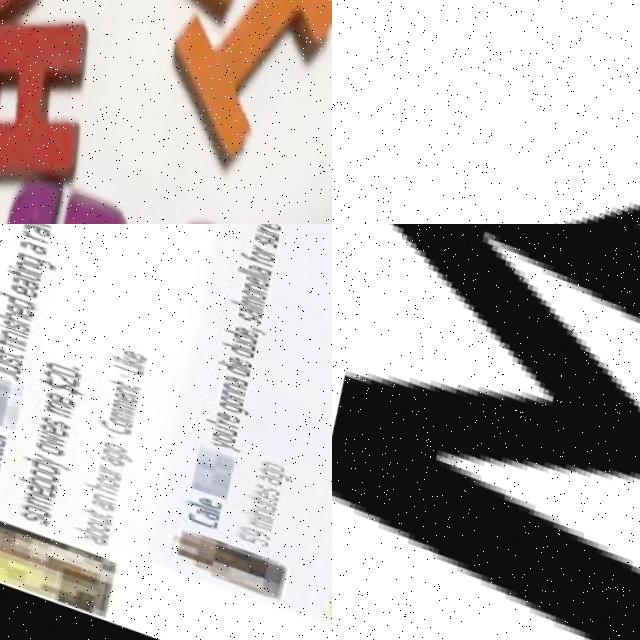1: (228, 527, 259, 544)
5: (227, 519, 263, 537)
A: (0, 0, 110, 187), (9, 234, 44, 255), (3, 272, 39, 292), (88, 449, 119, 467), (69, 529, 97, 545), (182, 502, 210, 518), (215, 368, 243, 384), (14, 224, 50, 236), (80, 496, 108, 511), (231, 301, 259, 316), (240, 257, 268, 272), (246, 468, 274, 483)
B: (7, 470, 49, 491), (61, 519, 98, 537)
C: (89, 416, 124, 436), (173, 508, 208, 526)
D: (10, 452, 52, 475), (0, 288, 33, 310), (206, 355, 243, 374), (215, 322, 252, 341), (210, 337, 247, 355)
E: (33, 386, 69, 406), (2, 278, 34, 298), (29, 419, 62, 438), (183, 489, 215, 508), (14, 480, 45, 498), (113, 343, 143, 361), (0, 299, 27, 318), (225, 320, 256, 336), (206, 405, 234, 421), (104, 387, 132, 402), (222, 350, 246, 365), (245, 483, 269, 498), (237, 270, 264, 283), (252, 224, 281, 228)
F: (233, 247, 270, 263), (0, 332, 19, 350)
G: (0, 159, 138, 224), (10, 249, 51, 270), (248, 461, 286, 479), (208, 395, 243, 413), (92, 444, 126, 460)
H: (72, 475, 109, 493), (0, 303, 24, 325)
I: (133, 0, 332, 166), (103, 355, 139, 369), (2, 262, 35, 276), (211, 353, 244, 366), (231, 505, 264, 518), (0, 320, 21, 333), (0, 330, 19, 344)
J: (0, 362, 15, 379)
K: (332, 5, 640, 224), (104, 348, 138, 365)
L: (102, 357, 139, 374), (229, 263, 265, 276), (229, 261, 265, 274), (176, 496, 209, 510), (221, 295, 257, 307)
M: (332, 224, 640, 640), (13, 488, 45, 510), (33, 396, 65, 417), (98, 403, 127, 421), (233, 290, 262, 306), (102, 394, 128, 411), (238, 511, 263, 528)
N: (9, 257, 38, 275), (0, 324, 23, 344), (241, 501, 269, 517), (82, 489, 110, 504), (104, 380, 132, 395), (212, 383, 240, 398), (214, 376, 242, 391), (237, 276, 265, 291)
O: (9, 499, 45, 520), (23, 437, 55, 457), (17, 465, 49, 482), (202, 425, 230, 442), (211, 388, 239, 405), (235, 282, 263, 298), (244, 243, 272, 259), (249, 454, 277, 470), (75, 516, 99, 531), (86, 472, 110, 486), (93, 438, 117, 452), (99, 413, 123, 426)
R: (14, 226, 45, 243), (86, 461, 113, 473), (246, 239, 270, 252), (207, 413, 231, 425), (252, 224, 276, 231)
S: (115, 179, 328, 224), (7, 507, 43, 526), (30, 412, 65, 429), (230, 307, 258, 322), (246, 229, 274, 244), (0, 316, 25, 332), (245, 477, 273, 491), (0, 350, 16, 365)
T: (0, 265, 37, 283), (235, 487, 270, 504), (101, 375, 134, 389), (71, 503, 101, 517), (0, 343, 18, 359)
U: (222, 333, 250, 349), (203, 420, 231, 434), (0, 354, 17, 375), (88, 465, 112, 479), (244, 495, 268, 509), (76, 511, 100, 524), (249, 224, 273, 237)
W: (27, 428, 60, 449)
Y: (23, 450, 64, 470), (199, 432, 235, 450)
